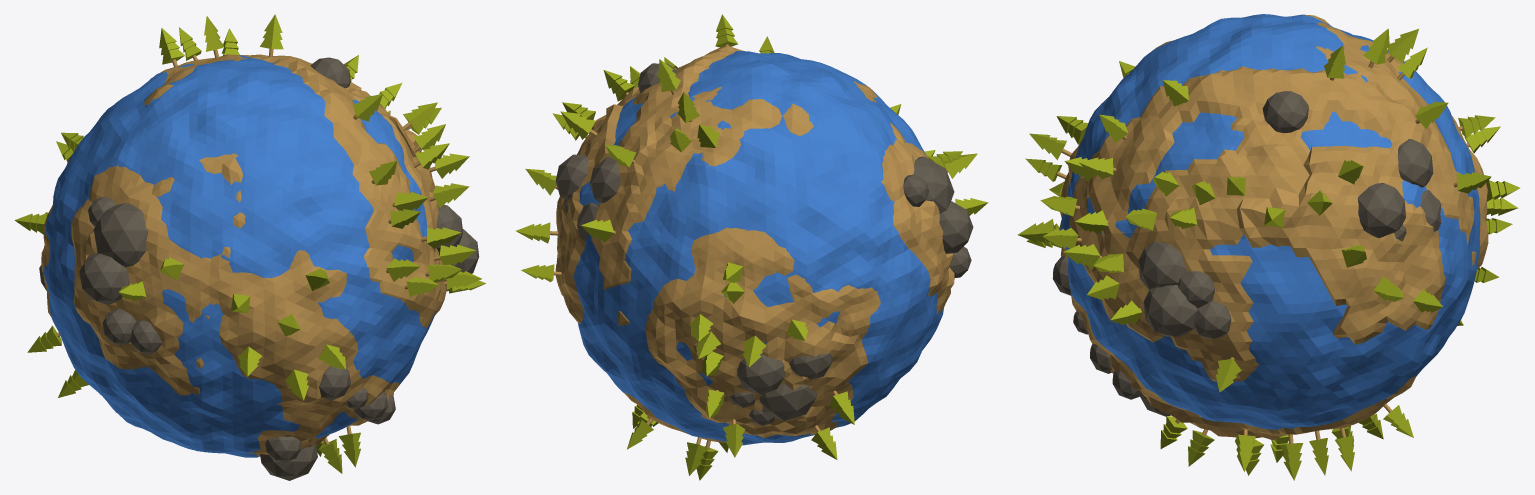
Rendered from Planeta2.fbx.
3 renders of one model, left to right at view 1: azimuth 30°, elevation 25°; view 2: azimuth 150°, elevation 25°; view 3: azimuth 270°, elevation 25°, orthographic. The views are drawn at different scales.
Parts seen in each view (by area): view 1: Null_1, Null_2, Sphere_3_3, Sphere_1_3, Sphere_6_2, Sphere_2_4, Sphere_3_4, Sphere_5_2, Sphere_7_2, Sphere_3, Sphere_5, Sphere_8 (+1 smaller); view 2: Null_1, Null_2, Sphere_2_3, Sphere_1_2, Sphere_3_3, Sphere_1_3, Sphere_2, Sphere_1, Sphere_2_2, Sphere_4_3; view 3: Null_2, Null_1, Sphere_8, Sphere_1, Sphere_5, Sphere_3, Sphere_2, Sphere_7, Sphere_6, Sphere.
Boxes of the visible parts, box(x1,y1,x2,y2) form: Null_1: box(43, 55, 436, 457); Null_2: box(41, 54, 446, 456); Sphere_3_3: box(93, 203, 148, 267); Sphere_1_3: box(79, 253, 129, 304); Sphere_6_2: box(260, 443, 317, 480); Sphere_2_4: box(102, 308, 135, 345); Sphere_3_4: box(319, 366, 350, 400); Sphere_5_2: box(130, 320, 161, 354); Sphere_7_2: box(265, 436, 301, 462); Sphere_3: box(311, 57, 350, 88); Sphere_5: box(436, 204, 462, 255); Sphere_8: box(451, 229, 479, 273); Null_1: box(573, 51, 943, 445); Null_2: box(555, 46, 954, 442); Sphere_2_3: box(759, 383, 816, 420); Sphere_1_2: box(737, 354, 784, 394); Sphere_3_3: box(913, 156, 954, 213); Sphere_1_3: box(939, 201, 973, 253); Sphere_2: box(590, 157, 620, 202); Sphere_1: box(555, 154, 588, 199); Sphere_2_2: box(789, 353, 832, 379); Sphere_4_3: box(903, 174, 929, 206); Null_2: box(1059, 14, 1488, 440); Null_1: box(1060, 14, 1480, 429); Sphere_8: box(1143, 285, 1197, 336); Sphere_1: box(1357, 183, 1405, 237); Sphere_5: box(1138, 241, 1186, 289); Sphere_3: box(1262, 91, 1308, 132); Sphere_2: box(1397, 139, 1433, 187); Sphere_7: box(1194, 300, 1231, 338); Sphere_6: box(1178, 271, 1214, 308); Sphere: box(1420, 190, 1441, 231).
Bounding box in the file's own units: 220 × 226 × 235.
